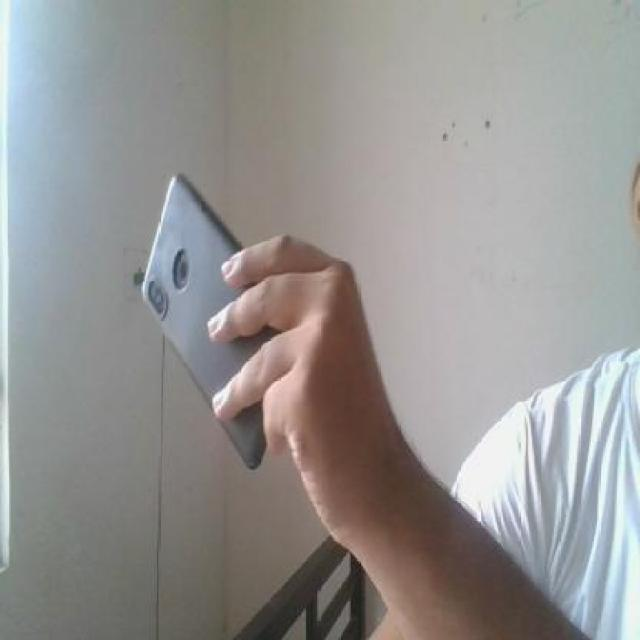Phone: (134, 170, 274, 474)
